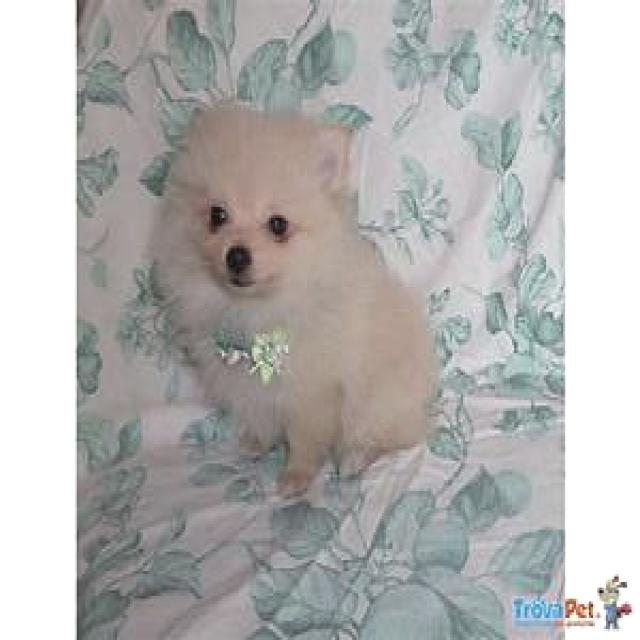KOPEK: (140, 81, 450, 488)
